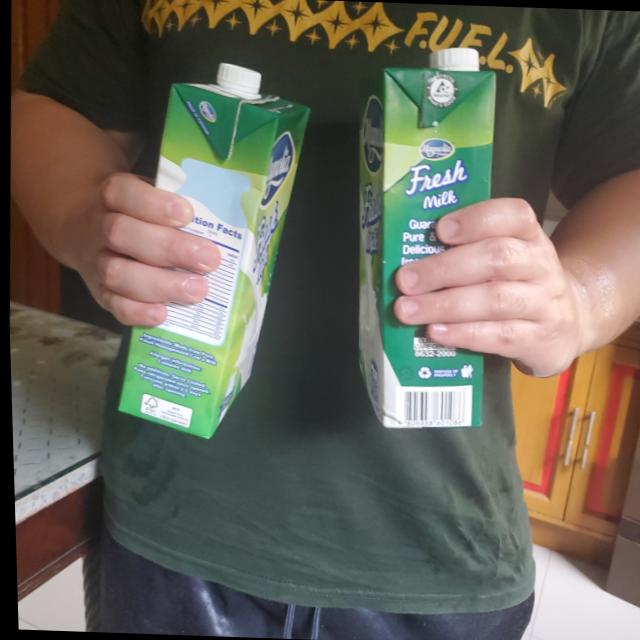milk: (103, 57, 318, 444), (343, 45, 501, 434)
